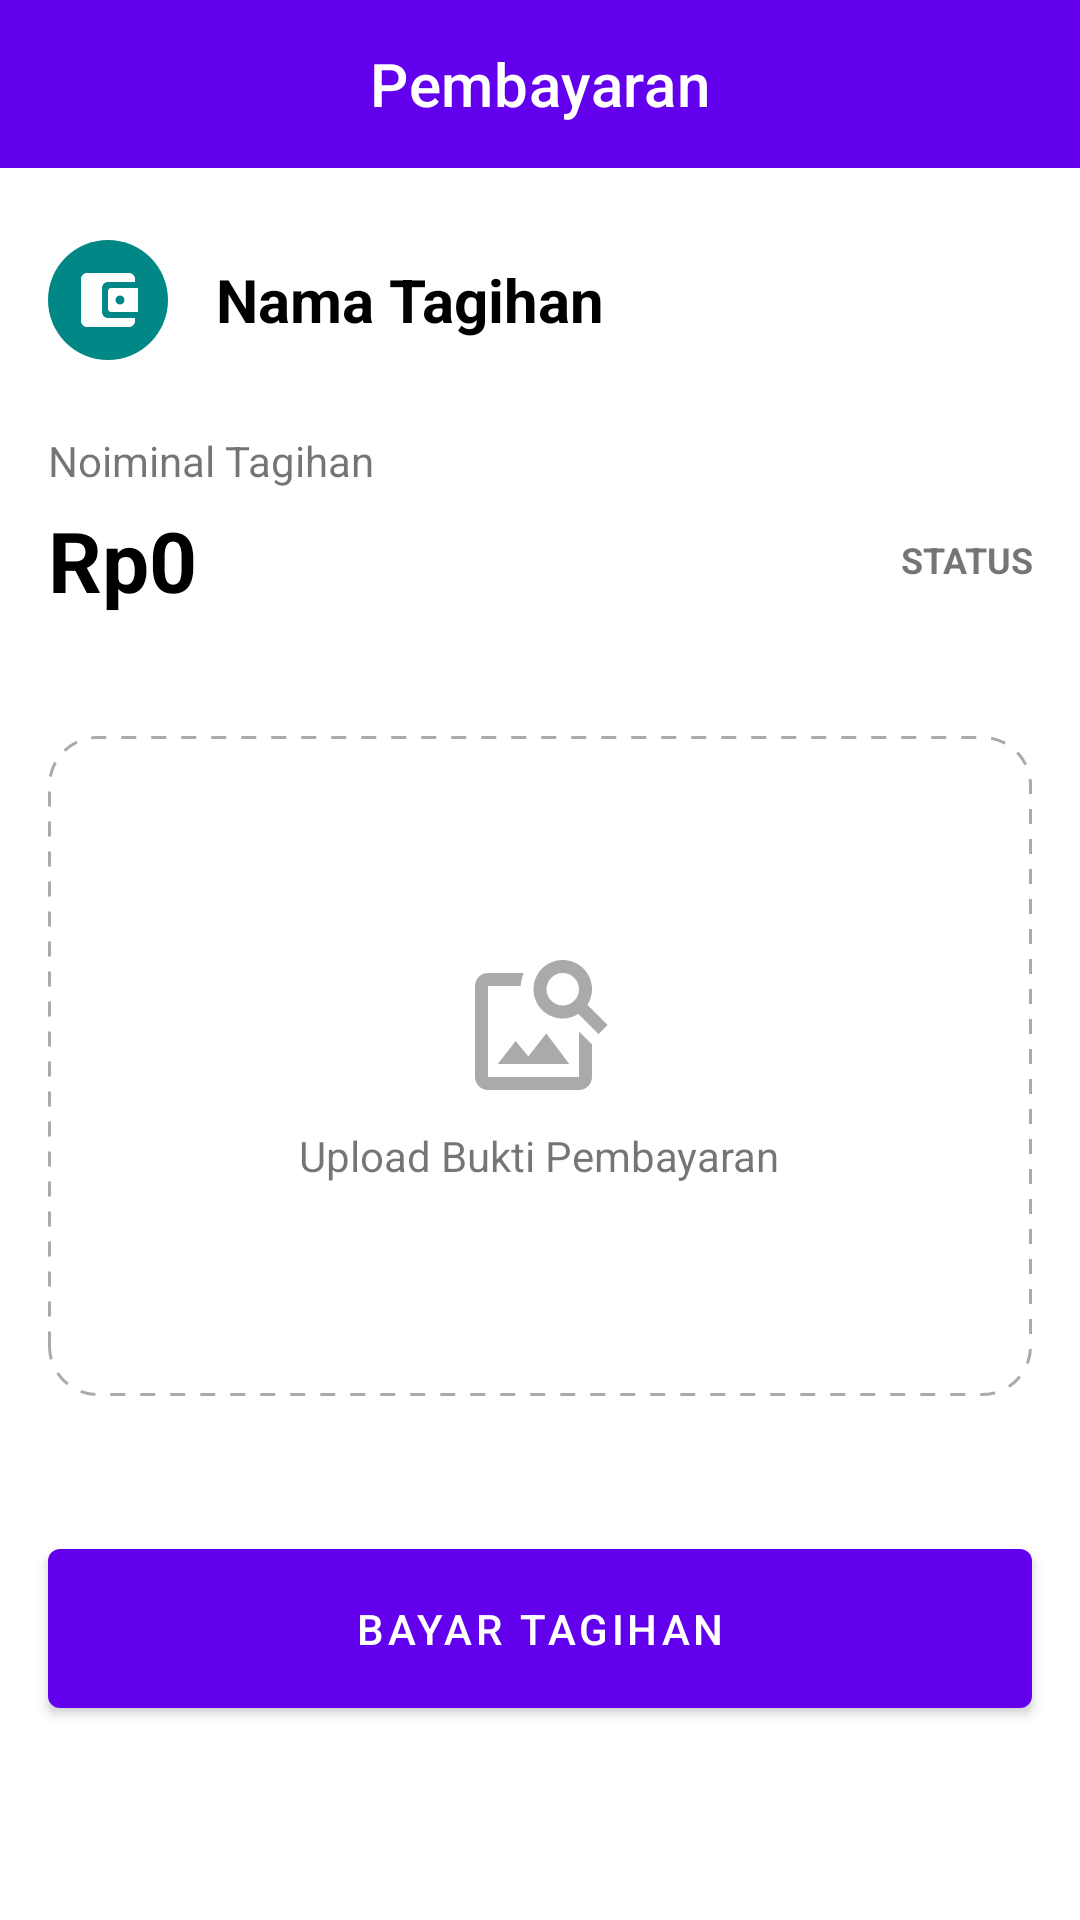

Locate icon controls on the screen. Image size 1080*1920, boxes as box(x1, y1, x2, y2).
account balance wallet: box(81, 273, 138, 327)
search: box(475, 960, 607, 1090)
